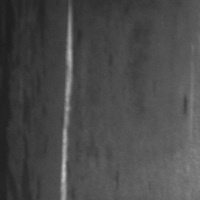inclusion: (0, 0, 35, 199)
scratches: (56, 1, 77, 199)
